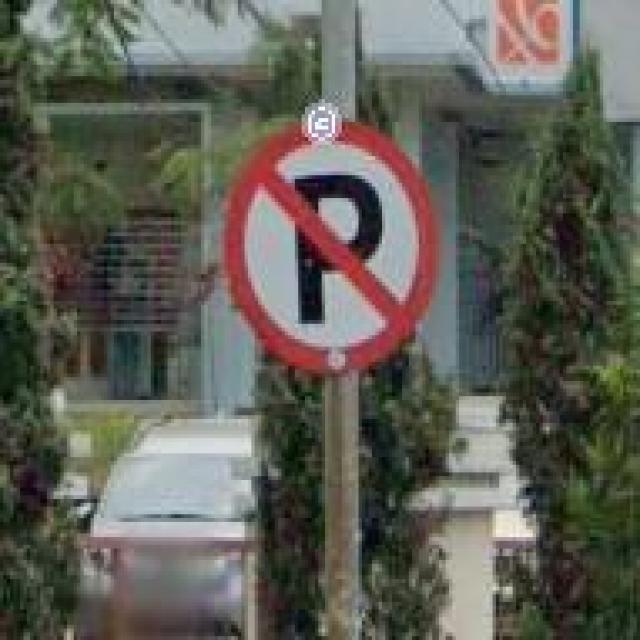traffic sign: (228, 122, 439, 377)
